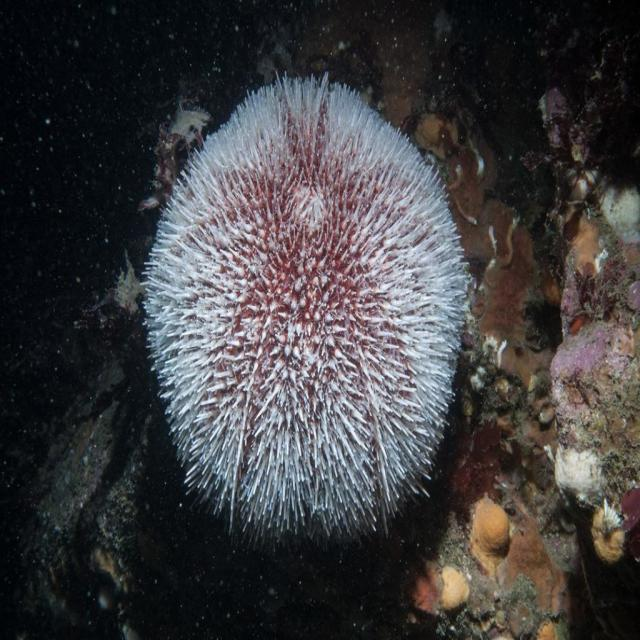Deniz Kestanesi: (138, 66, 472, 560)
